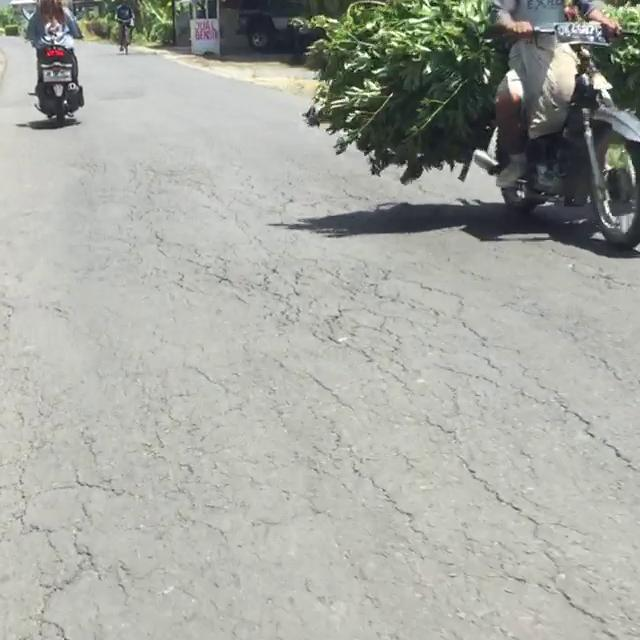retak_kulit_buaya: (242, 305, 640, 507), (130, 199, 493, 407), (405, 421, 640, 640), (0, 407, 147, 640)
